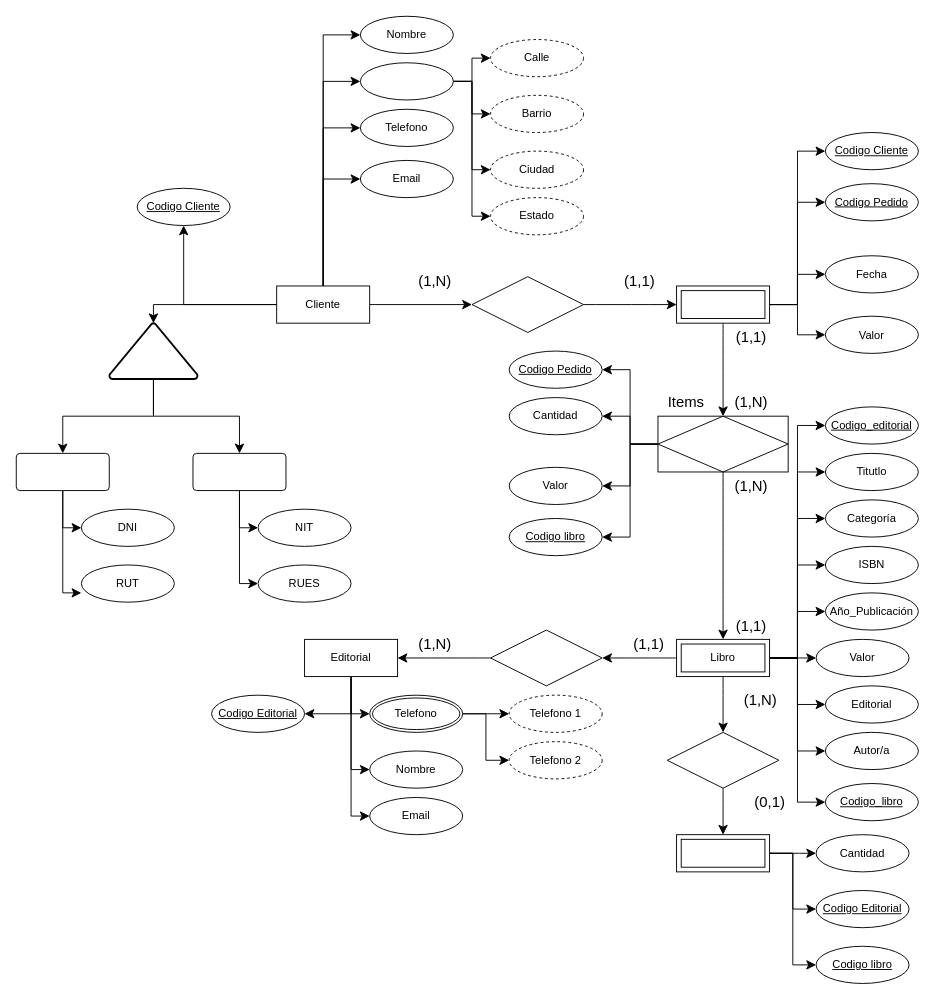
Image size: 935x1000. Some labels were removed from this diagram. Each missing label, with the centre of its shape:
compra: point (527, 304)
contiene: point (722, 443)
Dirección: point (406, 81)
Existe: point (722, 759)
ID: point (153, 350)
Inventario: point (723, 853)
Pedido de compra: point (723, 304)
Pertenece: point (546, 657)
PJ: point (239, 471)
PN: point (62, 471)
